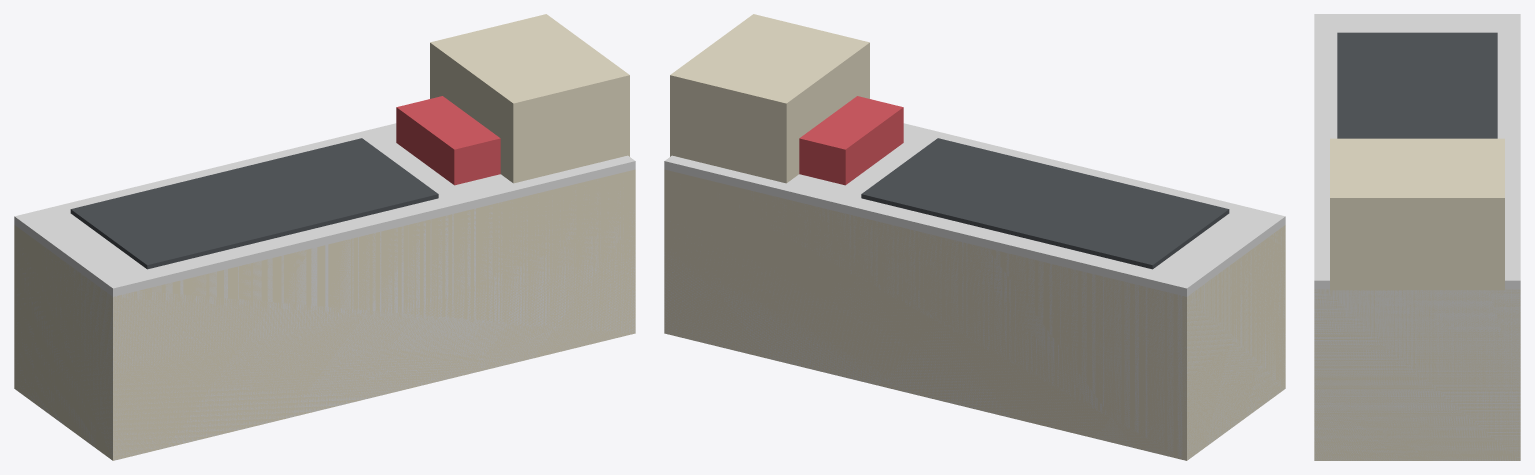
File: bh_prop_supermarket_checkout_a_01.glb
3 renders of one model, left to right at view 1: azimuth 30°, elevation 25°; view 2: azimuth 150°, elevation 25°; view 3: azimuth 270°, elevation 25°, orthographic. The views are drawn at different scales.
Parts seen in each view (by area): view 1: bh_prop_supermarket_checkout_a_01, col_bh_prop_supermarket_checkout_a_01, bh_prop_supermarket_checkout_a_01_belt, bh_prop_supermarket_checkout_a_01_bag_well, bh_prop_supermarket_checkout_a_01_scanner; view 2: bh_prop_supermarket_checkout_a_01, col_bh_prop_supermarket_checkout_a_01, bh_prop_supermarket_checkout_a_01_belt, bh_prop_supermarket_checkout_a_01_bag_well, bh_prop_supermarket_checkout_a_01_scanner; view 3: col_bh_prop_supermarket_checkout_a_01, bh_prop_supermarket_checkout_a_01, bh_prop_supermarket_checkout_a_01_bag_well, bh_prop_supermarket_checkout_a_01_belt.
Part boxes in pixels (x1,y1,x2,y2): bh_prop_supermarket_checkout_a_01: [14, 169, 635, 460]; col_bh_prop_supermarket_checkout_a_01: [14, 123, 635, 460]; bh_prop_supermarket_checkout_a_01_belt: [70, 138, 438, 269]; bh_prop_supermarket_checkout_a_01_bag_well: [430, 14, 629, 183]; bh_prop_supermarket_checkout_a_01_scanner: [396, 96, 500, 185]; bh_prop_supermarket_checkout_a_01: [664, 169, 1285, 460]; col_bh_prop_supermarket_checkout_a_01: [664, 123, 1285, 460]; bh_prop_supermarket_checkout_a_01_belt: [861, 138, 1229, 269]; bh_prop_supermarket_checkout_a_01_bag_well: [670, 14, 869, 183]; bh_prop_supermarket_checkout_a_01_scanner: [799, 96, 903, 185]; col_bh_prop_supermarket_checkout_a_01: [1314, 14, 1520, 460]; bh_prop_supermarket_checkout_a_01: [1314, 289, 1520, 460]; bh_prop_supermarket_checkout_a_01_bag_well: [1330, 138, 1504, 290]; bh_prop_supermarket_checkout_a_01_belt: [1337, 32, 1497, 138].
Bounding box in the file's own units: 2.61 × 1.2 × 0.85.
